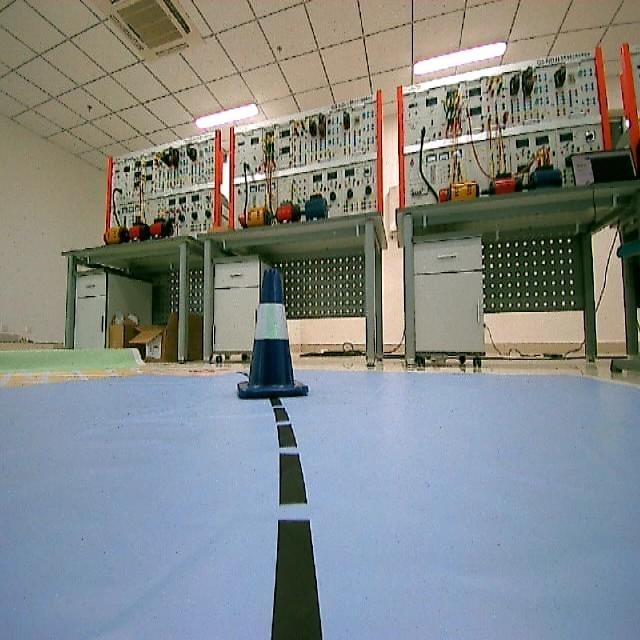obstacle: (236, 270, 311, 412)
